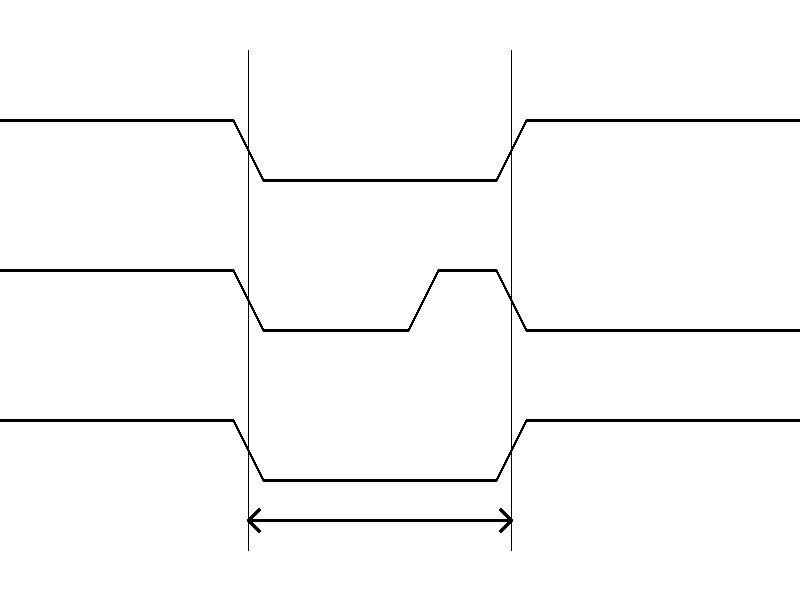double_arrow: (248, 505, 511, 535)
